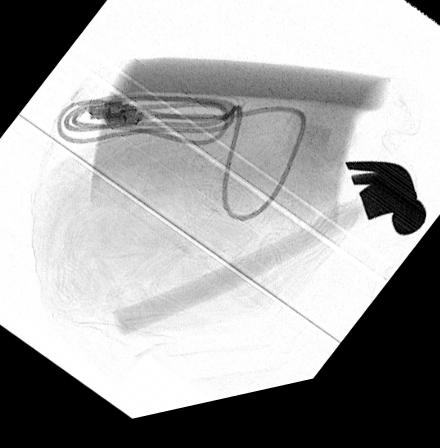Hammer: (111, 177, 426, 342)
